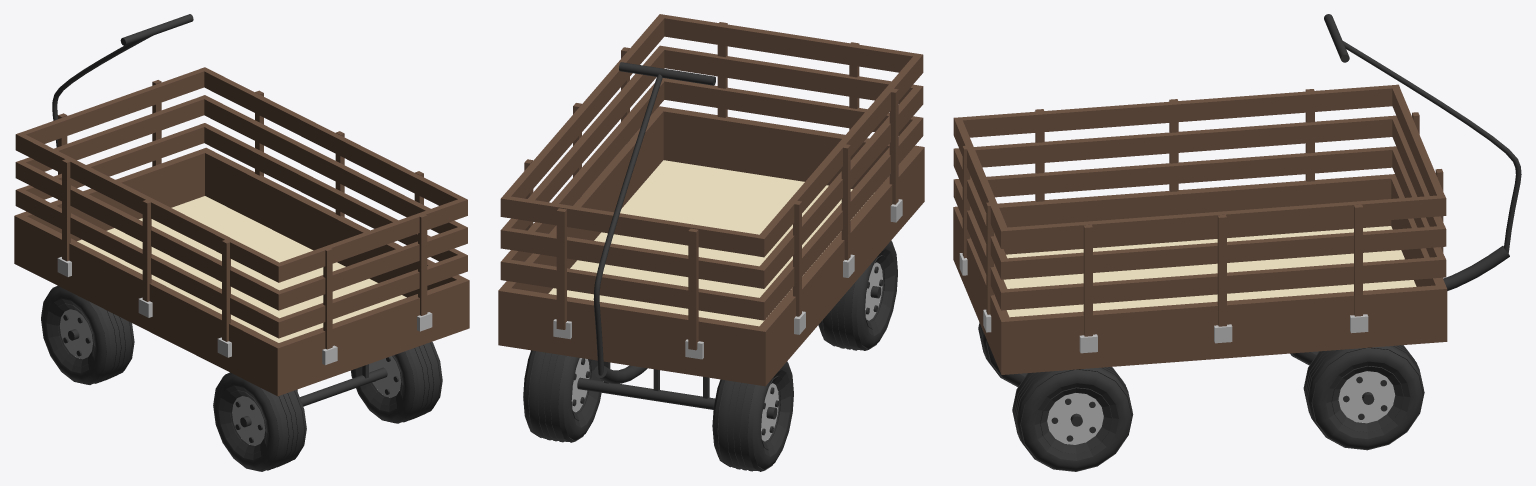
File: wagon.glb
3 renders of one model, left to right at view 1: azimuth 30°, elevation 25°; view 2: azimuth 150°, elevation 25°; view 3: azimuth 270°, elevation 25°, orthographic. The views are drawn at different scales.
Parts seen in each view (by area): view 1: Box20221, Box20219, Box20226, Box20218, Line004; view 2: Box20221, Box20219, Box20226, Box20218, Line004; view 3: Box20221, Box20219, Box20226, Box20218, Line004.
Part boxes in pixels (x1,y1,x2,y2): Box20221: (14, 67, 469, 396); Box20219: (41, 14, 442, 471); Box20226: (77, 196, 406, 342); Box20218: (57, 257, 432, 445); Line004: (52, 35, 152, 147); Box20221: (498, 14, 924, 386); Box20219: (523, 62, 897, 471); Box20226: (548, 160, 872, 326); Box20218: (553, 199, 902, 441); Line004: (593, 74, 662, 383); Box20221: (953, 84, 1447, 374); Box20219: (978, 14, 1424, 471); Box20226: (1004, 226, 1416, 317); Box20218: (959, 253, 1395, 444); Line004: (1343, 41, 1521, 290).
Size of the model in its own units: 1048 by 1211 by 1697.
